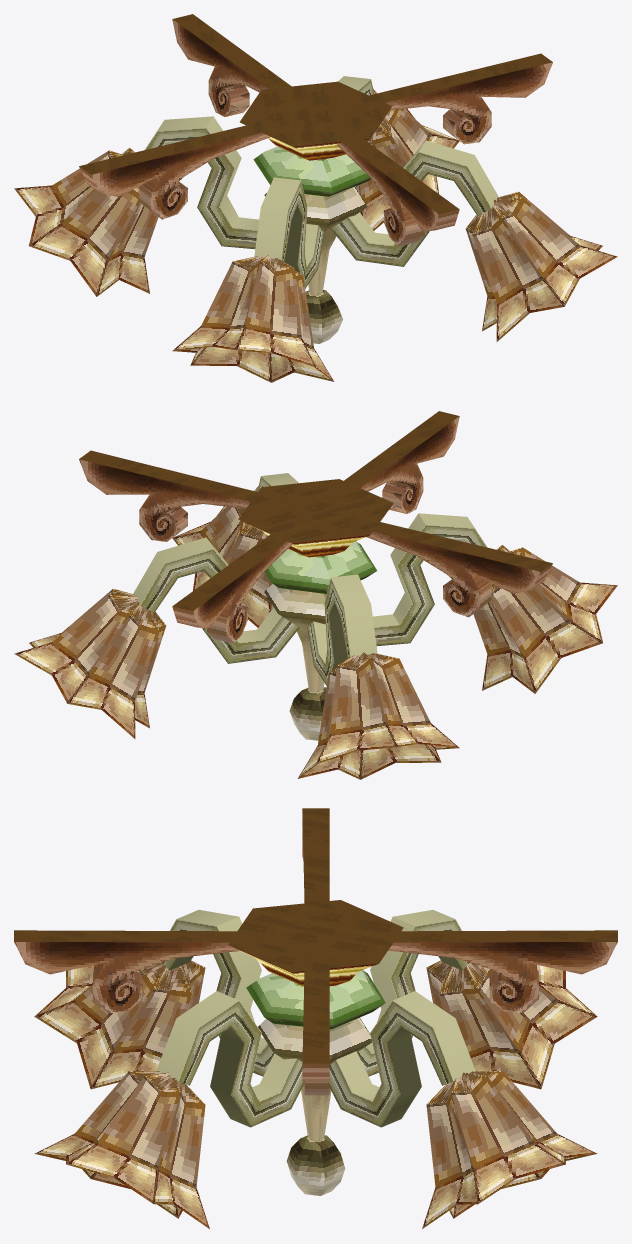
Rendered from shan28-1.glb.
3 views of the same model, one above another, from view 1: azimuth 30°, elevation 25°; view 2: azimuth 150°, elevation 25°; view 3: azimuth 270°, elevation 25° (orthographic). The views are drawn at different scales.
Parts seen in each view (by area): view 1: shan28_1; view 2: shan28_1; view 3: shan28_1.
Boxes of the visible parts, x1,y1,x2,y2 form: shan28_1: (14,14,617,382); shan28_1: (14,411,617,779); shan28_1: (14,808,617,1228).
Size of the model in its own units: 268 by 126 by 268.
7 materials, 7 textured.
